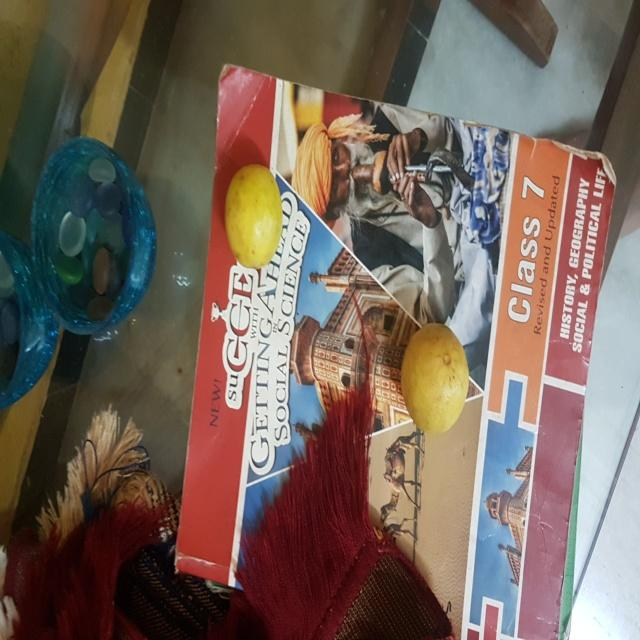lemon: (394, 308, 482, 437), (221, 163, 296, 270)
